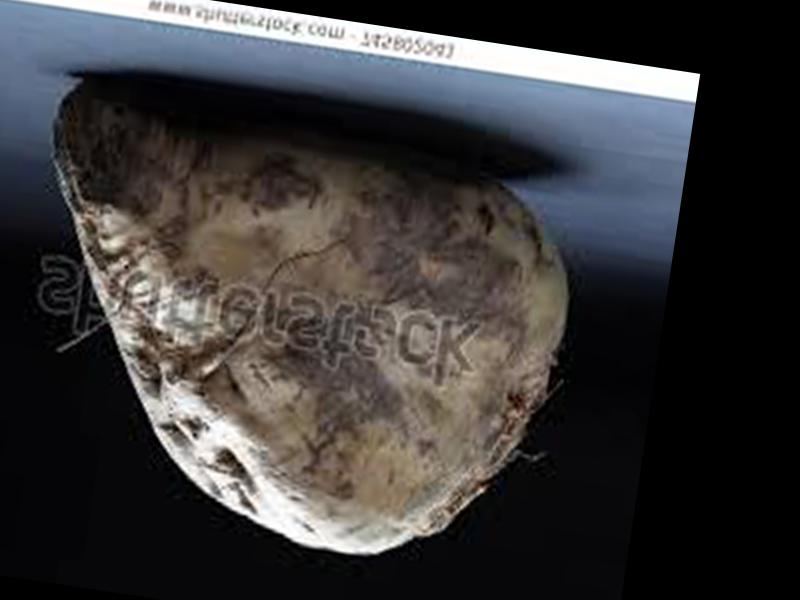Beet: (5, 81, 597, 577)
